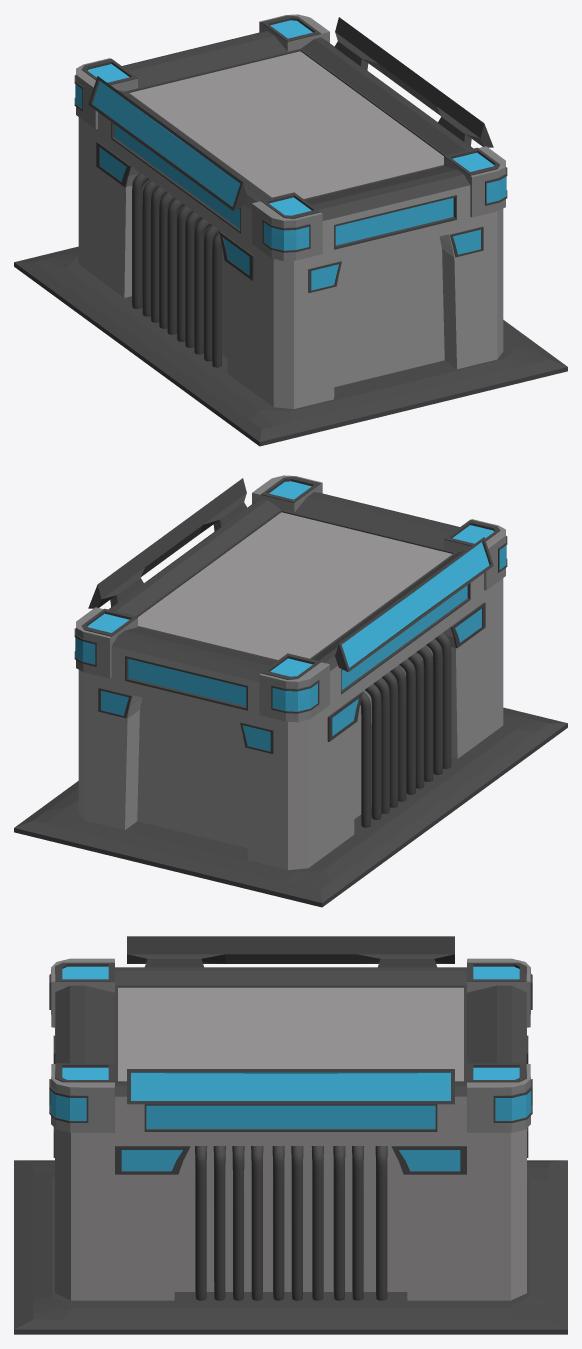
The model's file is Table_CLEANED_Shaded_Buildings_Update2.fbx.
3 views of the same model, one above another, from view 1: azimuth 30°, elevation 25°; view 2: azimuth 150°, elevation 25°; view 3: azimuth 270°, elevation 25° (orthographic). The views are drawn at different scales.
Parts seen in each view (by area): view 1: Cube, Cube.001, Cylinder.018, Cylinder.007, Cylinder.020, Cylinder.009, Cylinder.016, Cylinder.002, Cylinder.003, Cylinder.008, Cylinder.001, Cylinder.017; view 2: Cube, Cube.001, Cylinder.002, Cylinder.020, Cylinder.017, Cylinder.008, Cylinder.018, Cylinder.009, Cylinder.007, Cylinder.001, Cylinder.016, Cylinder.003; view 3: Cube, Cube.001, Cylinder.019, Cylinder.010, Cylinder.012, Cylinder.011, Cylinder.005, Cylinder.031, Cylinder.006, Cylinder.004, Cylinder.030, Cylinder.013.
Part boxes in pixels (box(x1,y1,x2,y2)): Cube: box(74, 14, 507, 409); Cube.001: box(14, 246, 567, 446); Cylinder.018: box(194, 218, 211, 354); Cylinder.007: box(167, 198, 183, 334); Cylinder.020: box(132, 172, 148, 308); Cylinder.009: box(185, 211, 201, 347); Cylinder.016: box(212, 231, 222, 367); Cylinder.002: box(142, 180, 158, 316); Cylinder.003: box(159, 192, 175, 328); Cylinder.008: box(177, 205, 192, 341); Cylinder.001: box(150, 186, 166, 322); Cylinder.017: box(203, 225, 219, 361); Cube: box(74, 475, 507, 870); Cube.001: box(14, 707, 567, 907); Cylinder.002: box(364, 683, 381, 819); Cylinder.020: box(360, 691, 371, 827); Cylinder.017: box(426, 638, 442, 774); Cylinder.008: box(399, 658, 415, 794); Cylinder.018: box(416, 645, 433, 781); Cylinder.009: box(408, 652, 424, 788); Cylinder.007: box(390, 665, 406, 801); Cylinder.001: box(374, 677, 389, 813); Cylinder.016: box(435, 632, 451, 768); Cylinder.003: box(382, 671, 398, 807); Cube: box(49, 936, 532, 1300); Cube.001: box(14, 1160, 567, 1334); Cylinder.019: box(375, 1146, 387, 1300); Cylinder.010: box(291, 1146, 303, 1300); Cylinder.012: box(251, 1146, 263, 1300); Cylinder.011: box(272, 1146, 284, 1300); Cylinder.005: box(333, 1146, 345, 1300); Cylinder.031: box(213, 1146, 225, 1300); Cylinder.006: box(352, 1146, 364, 1300); Cylinder.004: box(311, 1146, 323, 1300); Cylinder.030: box(195, 1146, 207, 1300); Cylinder.013: box(232, 1146, 244, 1300).
Bounding box in the file's own units: 672 × 457 × 928.
